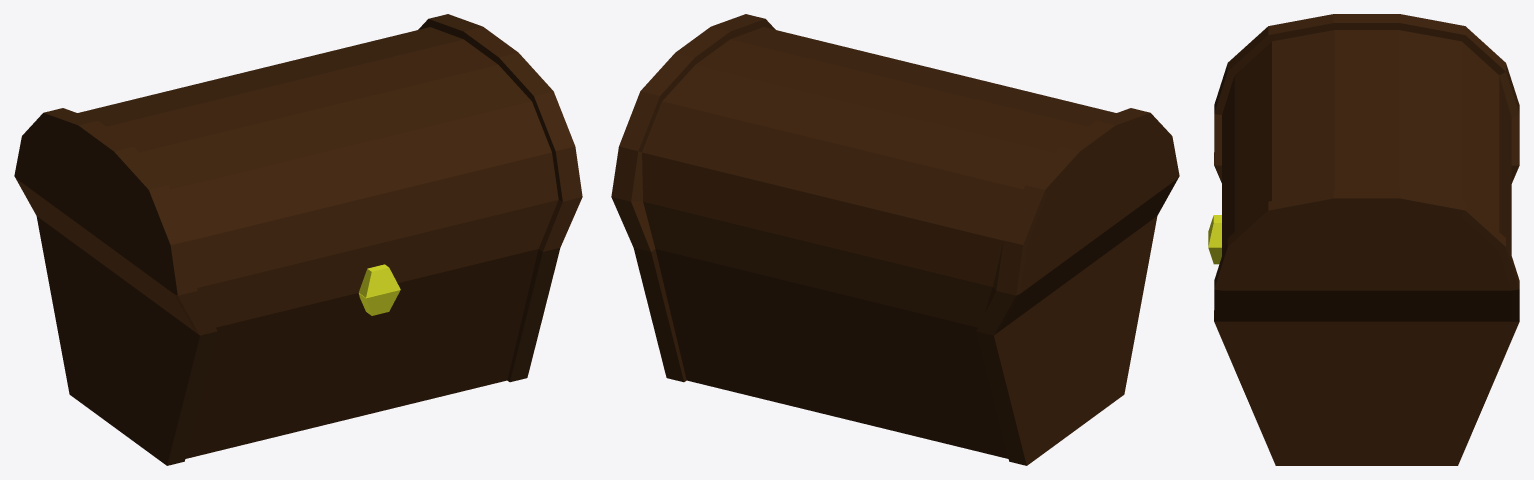
File: cofre.FBX
3 renders of one model, left to right at view 1: azimuth 30°, elevation 25°; view 2: azimuth 150°, elevation 25°; view 3: azimuth 270°, elevation 25°, orthographic. The views are drawn at different scales.
Parts seen in each view (by area): view 1: Chest, Chest_2_7; view 2: Chest, Chest_2_7; view 3: Chest, Chest_2_7.
Boxes of the visible parts, bbox=[...] form: Chest: bbox=[14, 14, 582, 335]; Chest_2_7: bbox=[36, 216, 560, 465]; Chest: bbox=[611, 14, 1179, 335]; Chest_2_7: bbox=[633, 216, 1157, 465]; Chest: bbox=[1208, 14, 1519, 321]; Chest_2_7: bbox=[1208, 165, 1519, 465].
Bounding box in the file's own units: 46.32 × 32.51 × 33.04.
